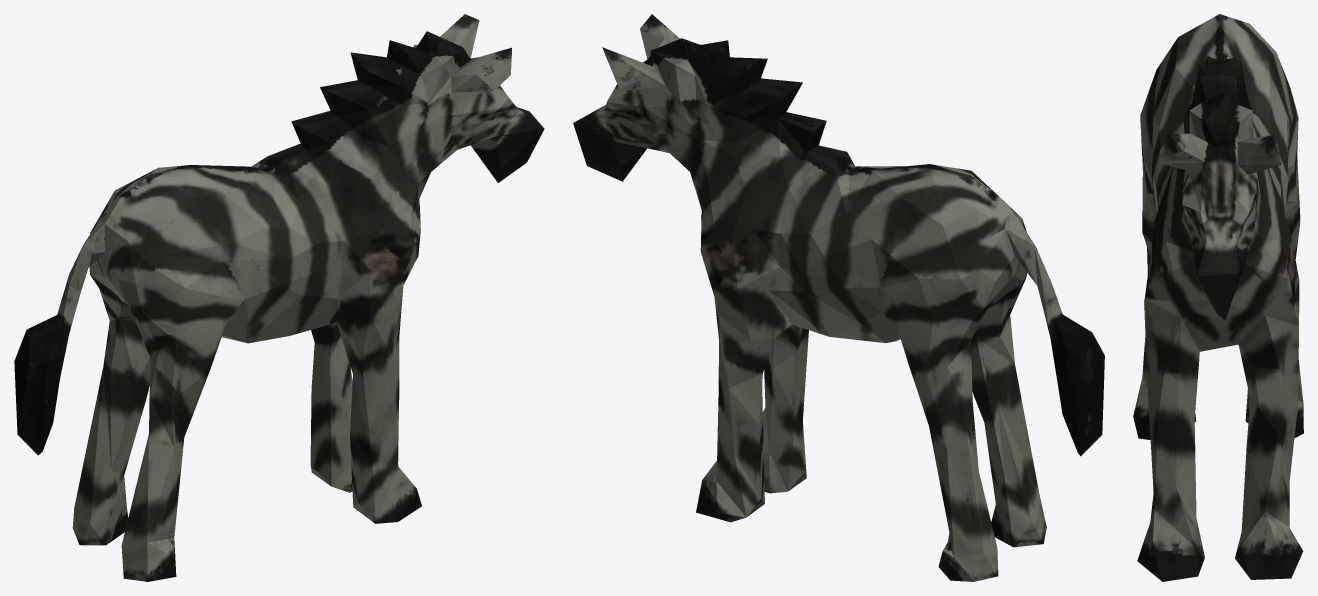
Rendered from continuous-fitted-textured.glb.
3 views of the same model, side by side, from view 1: azimuth 30°, elevation 25°; view 2: azimuth 150°, elevation 25°; view 3: azimuth 270°, elevation 25° (orthographic). The views are drawn at different scales.
Parts seen in each view (by area): view 1: world; view 2: world; view 3: world.
Part boxes in pixels (x1,y1,x2,y2): world: (14,14,544,581); world: (573,14,1104,581); world: (1133,14,1303,581).
Bounding box in the file's own units: 2.96 × 2.42 × 0.7314.
Materials: 1 (1 with a texture image).
